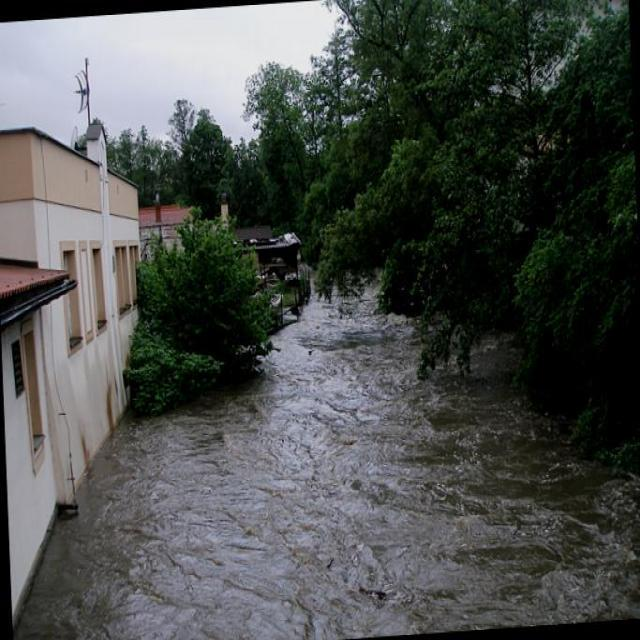flood: (0, 258, 639, 639)
